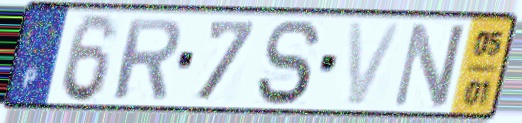6: (58, 10, 122, 106)
7: (196, 16, 259, 105)
N: (388, 19, 470, 111)
R: (110, 15, 183, 102)
S: (253, 17, 325, 108)
V: (346, 19, 407, 108)
